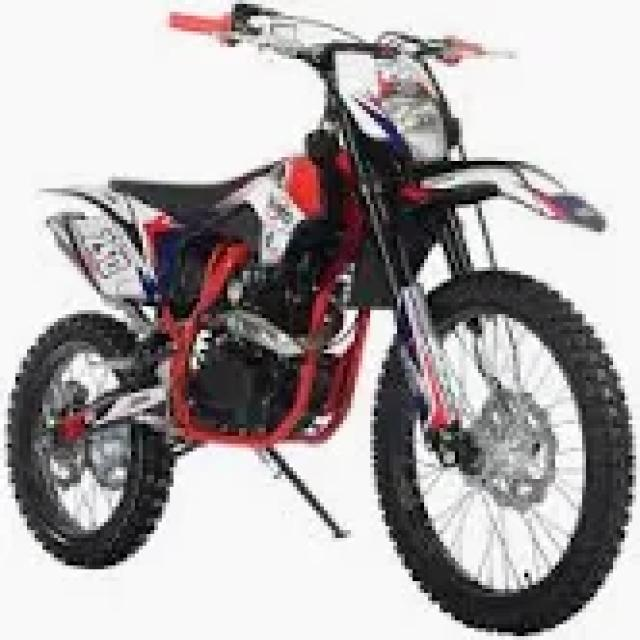motorcycle: (4, 0, 632, 632)
